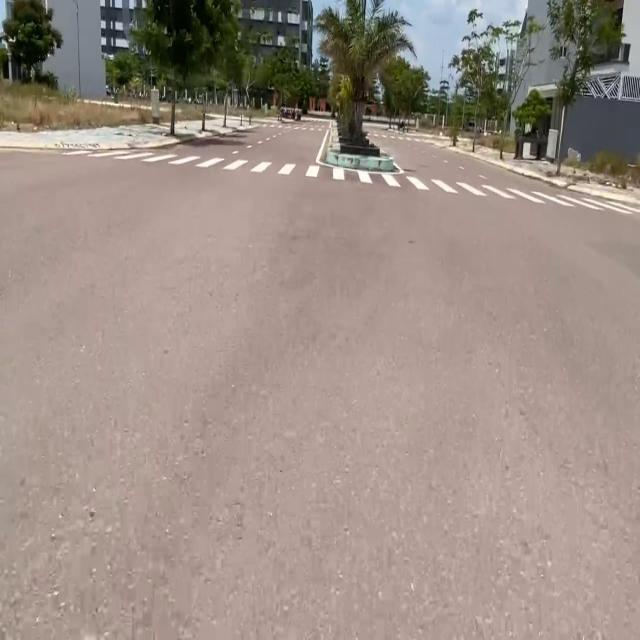walk-crossing: (63, 147, 638, 217)
